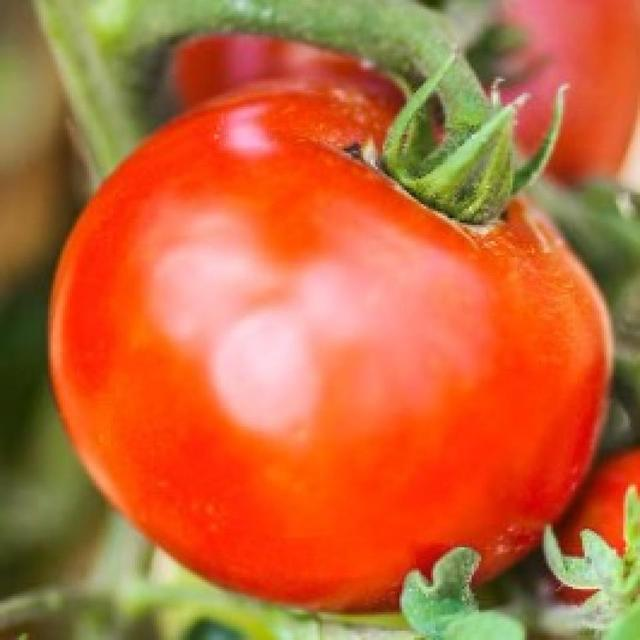Healthy Fruit: (34, 62, 411, 377)
